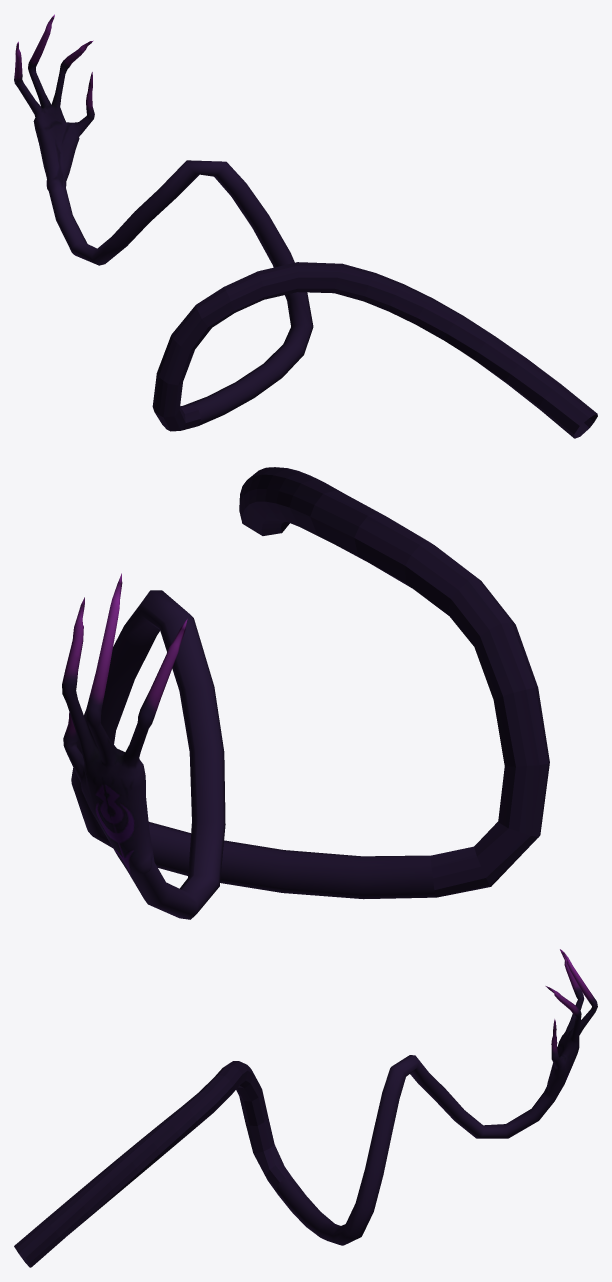
File: CH_Oyome_WP_Base008.glb
3 renders of one model, top to bottom at view 1: azimuth 30°, elevation 25°; view 2: azimuth 150°, elevation 25°; view 3: azimuth 270°, elevation 25°, orthographic. The views are drawn at different scales.
Visible parts, largest first — view 1: CH_Oyome_WP_Base008; view 2: CH_Oyome_WP_Base008; view 3: CH_Oyome_WP_Base008.
Boxes of the visible parts, x1=… form: CH_Oyome_WP_Base008: x1=14, y1=14, x2=597, y2=438; CH_Oyome_WP_Base008: x1=62, y1=467, x2=549, y2=919; CH_Oyome_WP_Base008: x1=14, y1=949, x2=597, y2=1267.
Bounding box in the file's own units: 0.6946 × 0.6398 × 1.3.
1 material, 1 textured.
